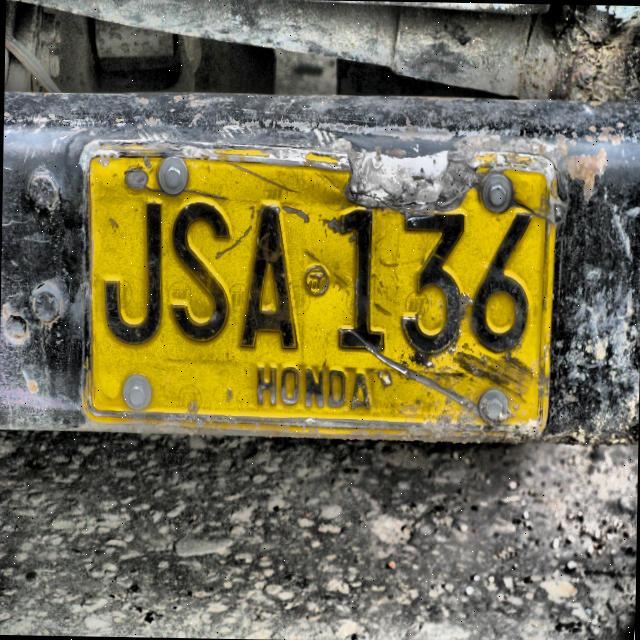plate: (86, 153, 547, 429)
